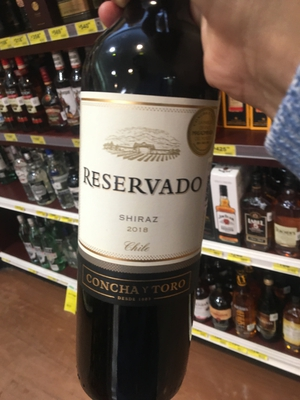reservado shiraz: (67, 21, 217, 400)
